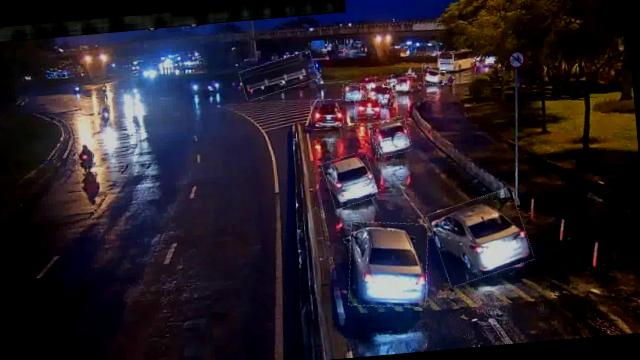Bike: (75, 142, 95, 174), (98, 104, 110, 128)
Bus: (438, 49, 474, 72)
Car: (430, 190, 533, 284), (344, 218, 432, 312), (323, 152, 377, 208), (372, 116, 412, 156), (310, 98, 344, 132), (392, 72, 426, 96), (354, 95, 386, 120), (368, 84, 398, 108), (421, 65, 446, 86), (342, 82, 367, 102)
Truck: (239, 53, 318, 97)
